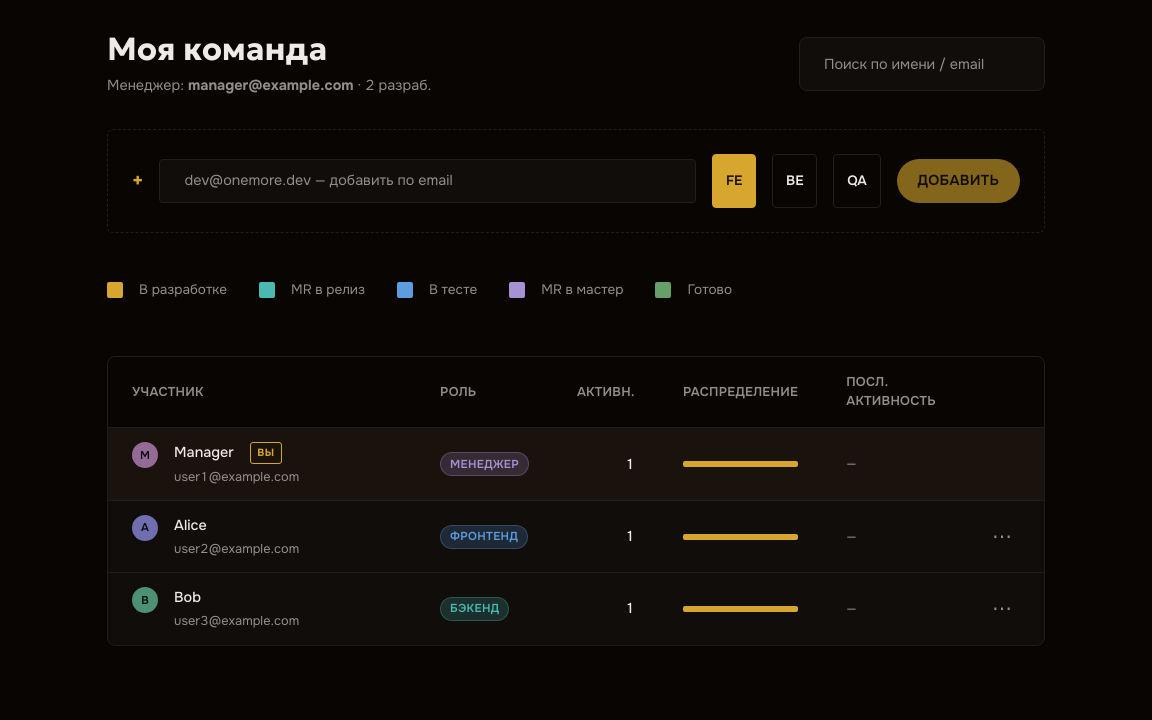
Test case: TeamPage › filters roster by email
Expected: the text "Alice" is shown, [174,516,207,534]
Expected: the text "Bob" is shown, [174,588,201,606]
Type "user2" into the field with placeholder "Поиск по имени / email" at [922, 64], box [799,37,1045,91]
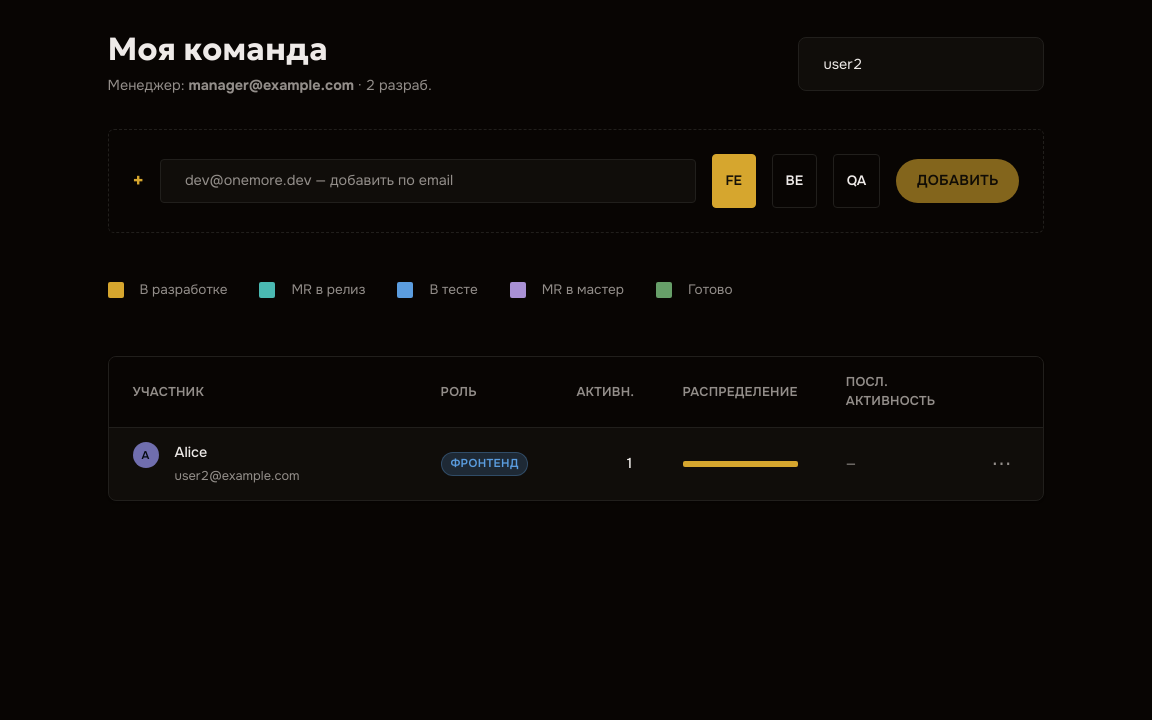
Expected: the text "Alice" is shown, [174,443,207,461]
Expected: the text "Bob" is gone
